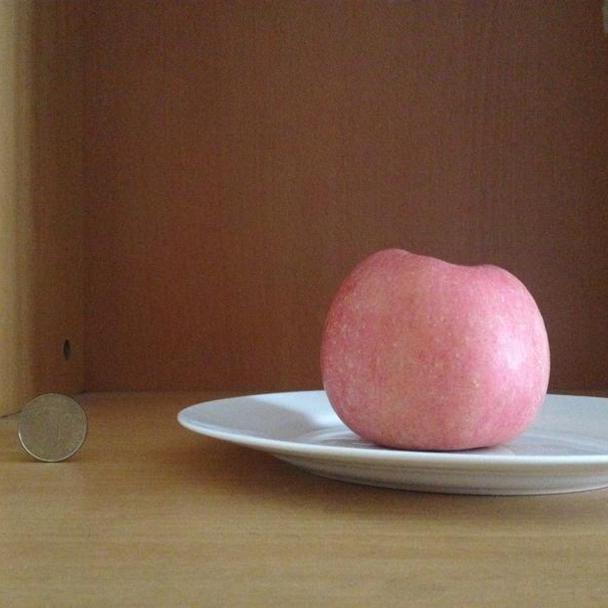apple: (317, 243, 555, 453)
